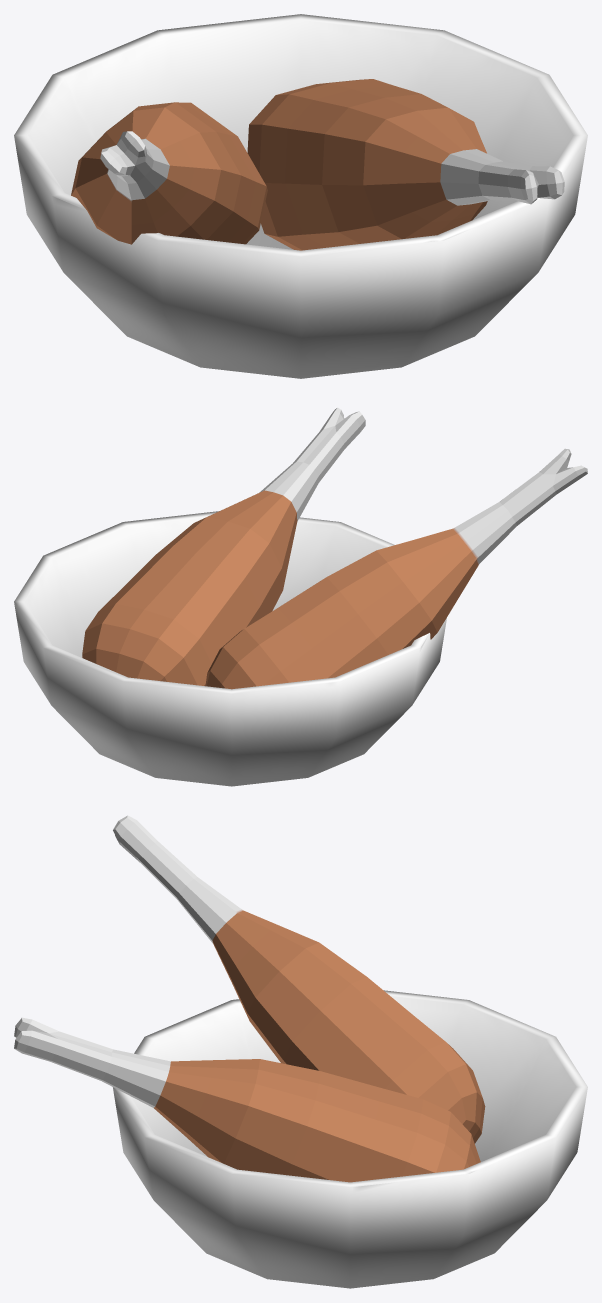
File: chickenleg.gltf
3 renders of one model, top to bottom at view 1: azimuth 30°, elevation 25°; view 2: azimuth 150°, elevation 25°; view 3: azimuth 270°, elevation 25°, orthographic. The views are drawn at different scales.
Visible parts, largest first — view 1: kimchbowl, Chicken; view 2: Chicken, kimchbowl; view 3: Chicken, kimchbowl.
Part boxes in pixels (x1,y1,x2,y2): kimchbowl: (14, 14, 587, 378); Chicken: (71, 79, 564, 250); Chicken: (82, 407, 587, 689); kimchbowl: (14, 511, 446, 786); Chicken: (14, 815, 485, 1182); kimchbowl: (113, 990, 587, 1288).
Bounding box in the file's own units: 0.3259 × 0.1798 × 0.3361.
3 materials, 3 textured.
